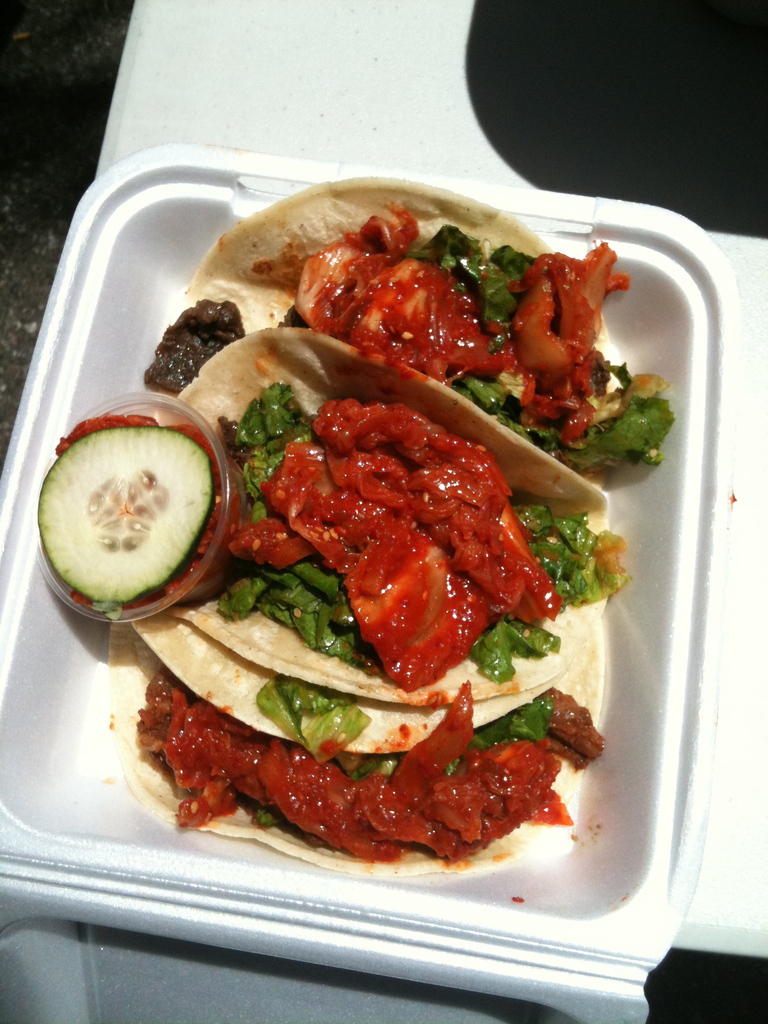taco: (77, 317, 598, 774)
